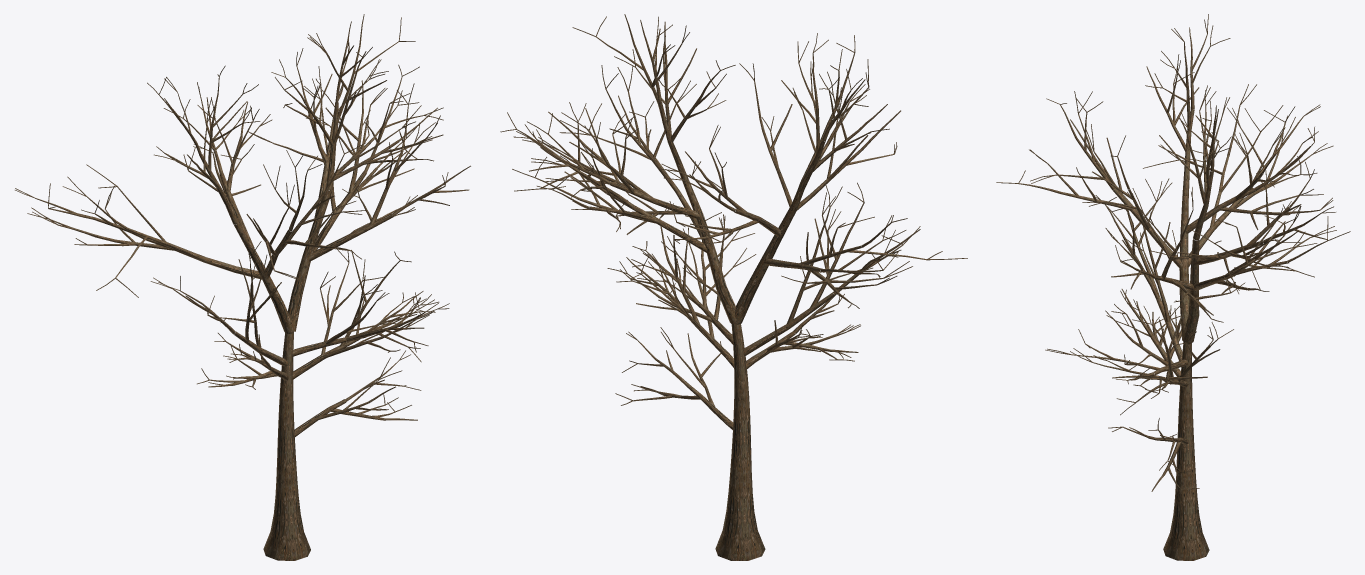
Rendered from DeadTree_B.gltf.
3 renders of one model, left to right at view 1: azimuth 30°, elevation 25°; view 2: azimuth 150°, elevation 25°; view 3: azimuth 270°, elevation 25°, orthographic. The views are drawn at different scales.
Parts seen in each view (by area): view 1: DeadTree_B; view 2: DeadTree_B; view 3: DeadTree_B.
Part boxes in pixels (left/top/right/bottom): DeadTree_B: left=15, top=14, right=470, bottom=560; DeadTree_B: left=500, top=14, right=967, bottom=560; DeadTree_B: left=996, top=14, right=1350, bottom=560.
Bounding box in the file's own units: 13.15 × 16.52 × 10.79.
Materials: 1 (1 with a texture image).
